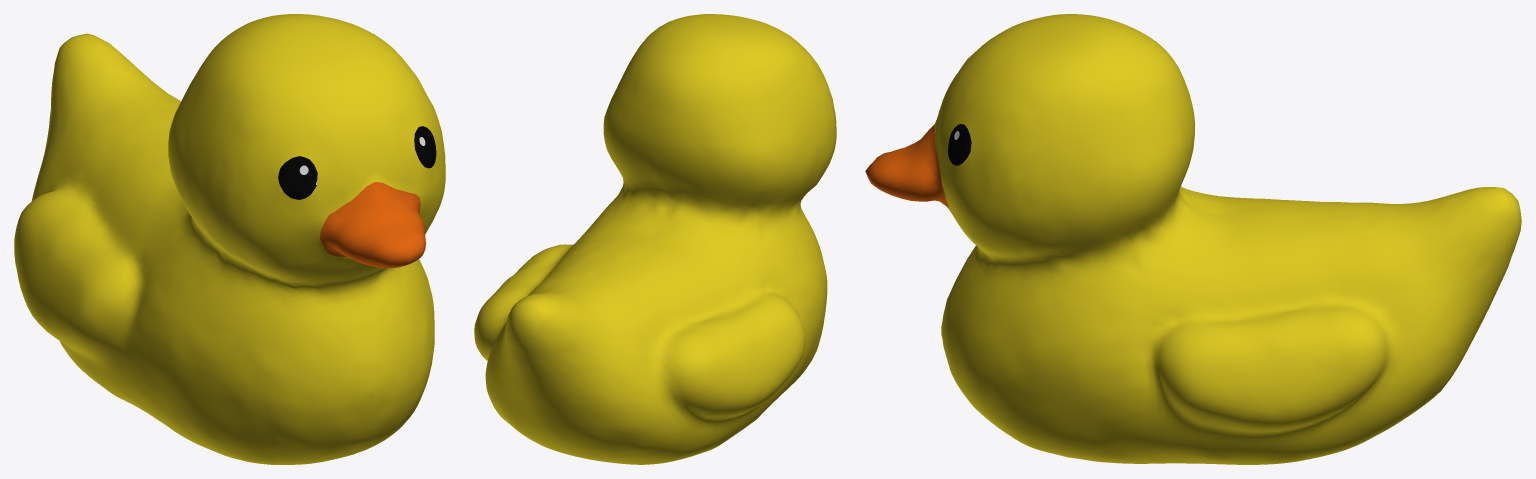
File: rubberduck.dae
3 renders of one model, left to right at view 1: azimuth 30°, elevation 25°; view 2: azimuth 150°, elevation 25°; view 3: azimuth 270°, elevation 25°, orthographic. The views are drawn at different scales.
Parts seen in each view (by area): view 1: Sphere; view 2: Sphere; view 3: Sphere.
Part boxes in pixels (box(x1,y1,x2,y2)): Sphere: box(14, 14, 445, 464); Sphere: box(474, 14, 836, 464); Sphere: box(865, 14, 1521, 464).
Size of the model in its own units: 28.58 by 50.38 by 35.2.
